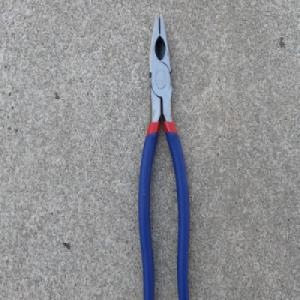Pliers: (137, 9, 190, 300)
